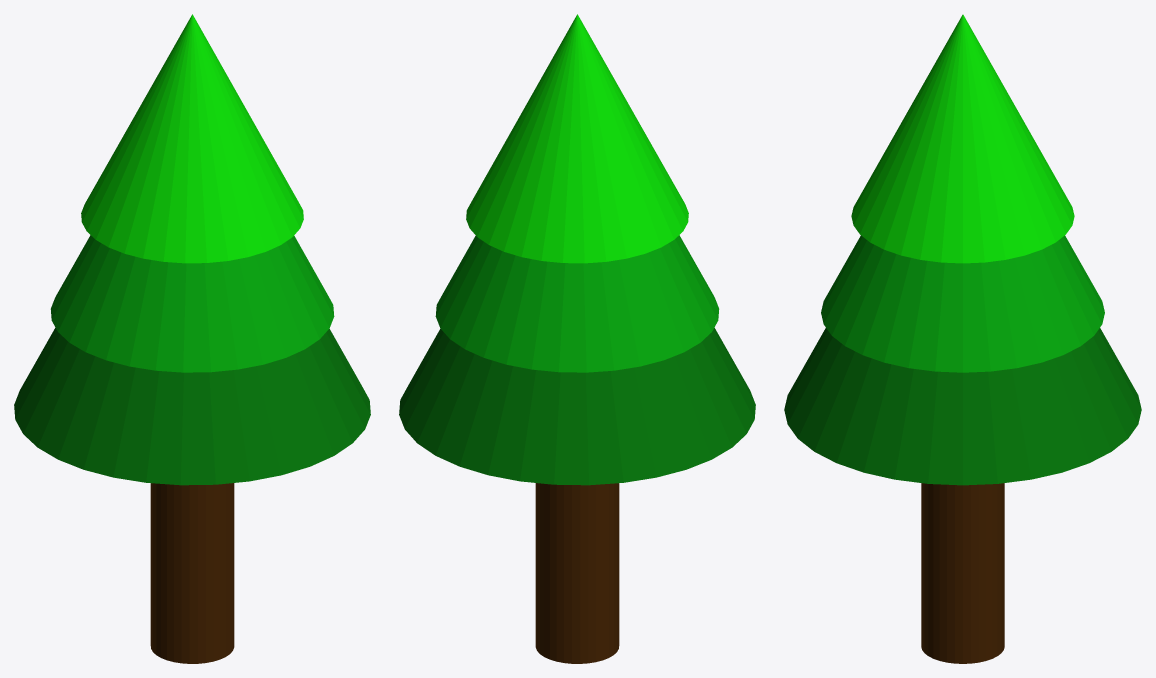
3 views of the same model, side by side, from view 1: azimuth 30°, elevation 25°; view 2: azimuth 150°, elevation 25°; view 3: azimuth 270°, elevation 25° (orthographic).
Parts seen in each view (by area): view 1: Cone.002, Cone, Cone.001, Cylinder; view 2: Cone.002, Cone, Cone.001, Cylinder; view 3: Cone.002, Cone, Cone.001, Cylinder.
Part boxes in pixels (x1,y1,x2,y2): Cone.002: [14, 328, 370, 485]; Cone: [81, 14, 303, 263]; Cone.001: [50, 235, 334, 372]; Cylinder: [150, 483, 234, 663]; Cone.002: [399, 328, 755, 485]; Cone: [466, 14, 688, 263]; Cone.001: [435, 235, 719, 372]; Cylinder: [535, 483, 619, 663]; Cone.002: [784, 328, 1141, 485]; Cone: [851, 14, 1074, 263]; Cone.001: [821, 235, 1104, 372]; Cylinder: [921, 483, 1004, 663].
Size of the model in its own units: 320 by 625 by 320.
